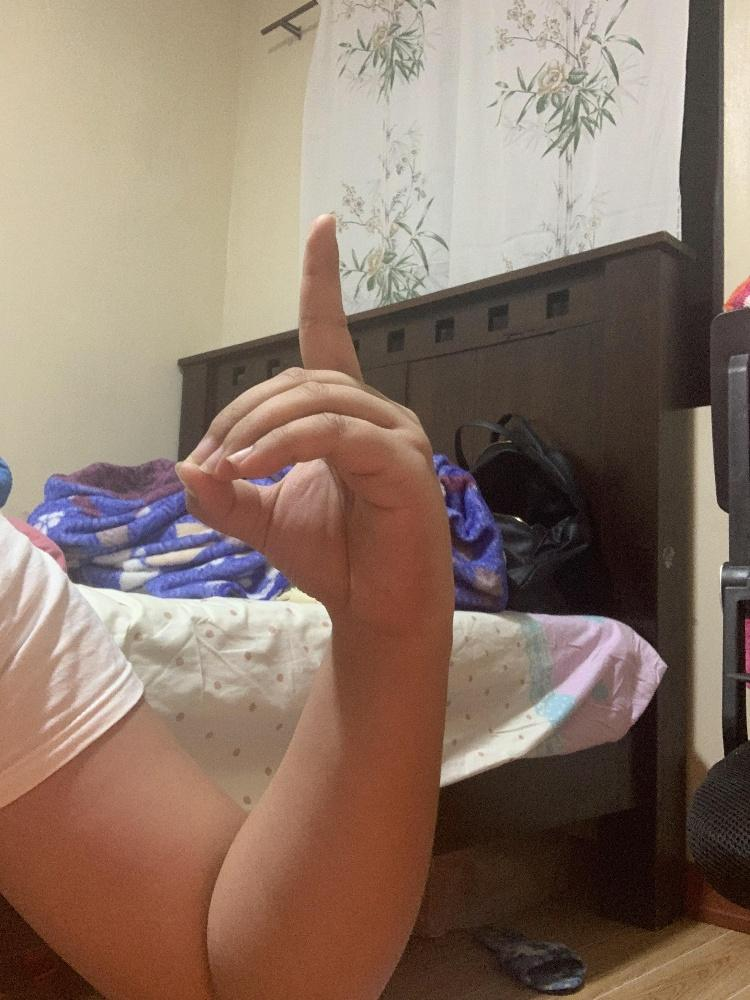d: (177, 213, 457, 622)
